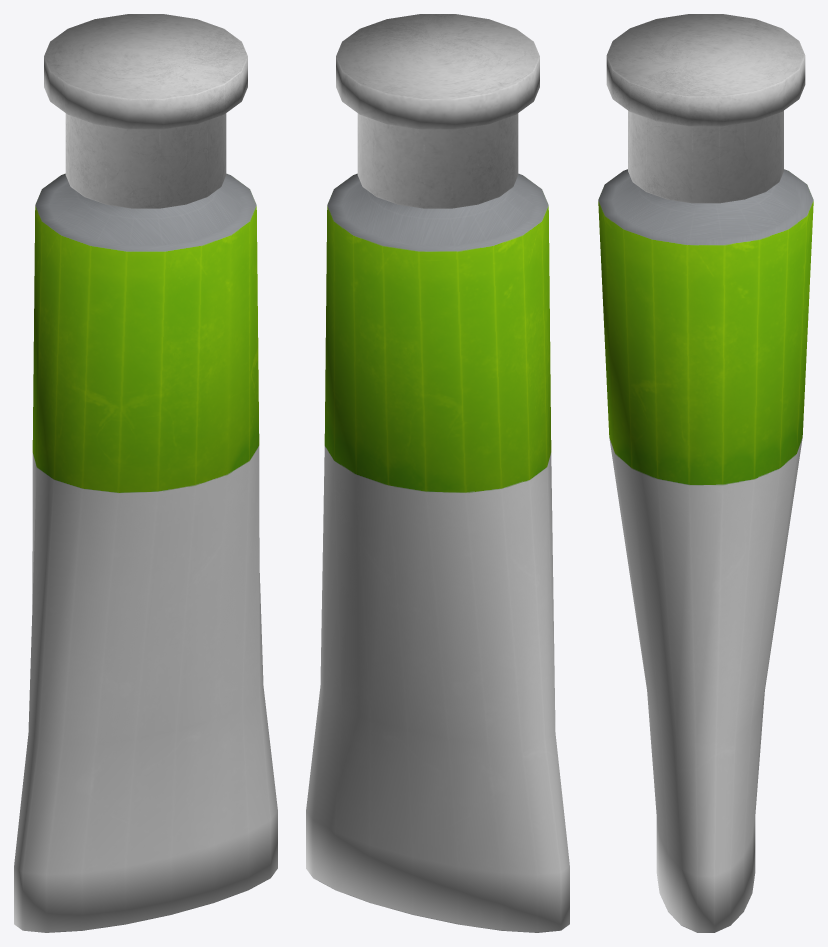
File: tuboDeTInta_TEXTURIZADO_verde.fbx
3 renders of one model, left to right at view 1: azimuth 30°, elevation 25°; view 2: azimuth 150°, elevation 25°; view 3: azimuth 270°, elevation 25°, orthographic. The views are drawn at different scales.
Parts seen in each view (by area): view 1: t verde; view 2: t verde; view 3: t verde.
Part boxes in pixels (x1,y1,x2,y2): t verde: [14, 14, 277, 932]; t verde: [306, 14, 569, 932]; t verde: [598, 14, 813, 932].
Bounding box in the file's own units: 5.55 × 17.48 × 4.18.
Materials: 1 (1 with a texture image).
